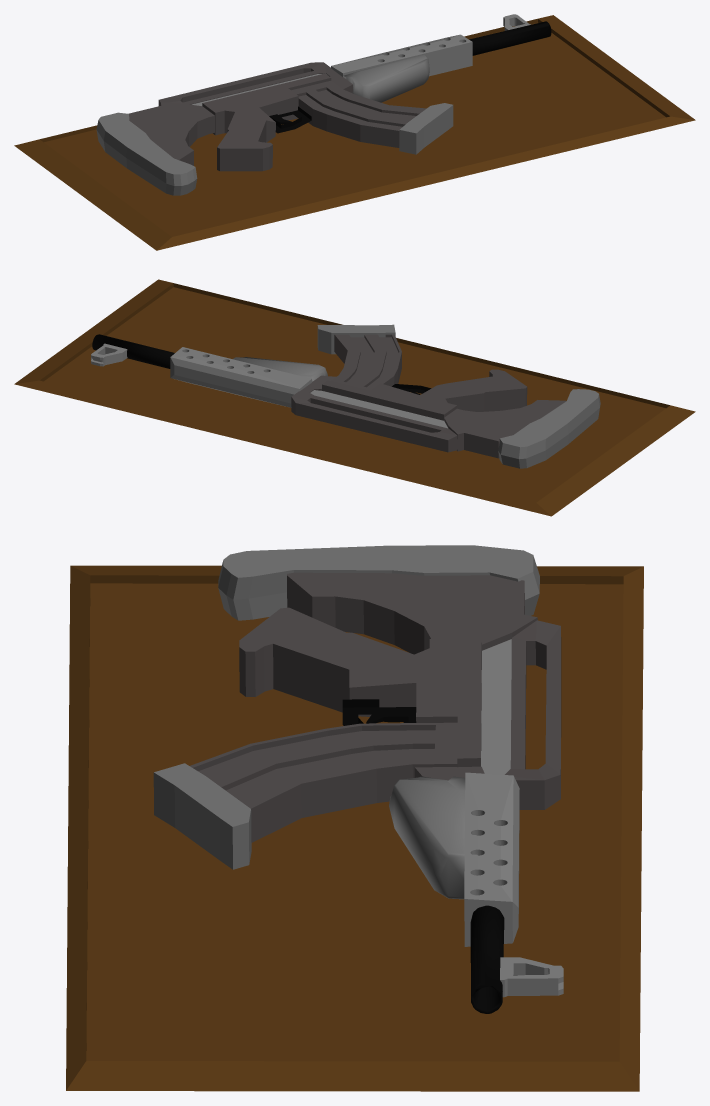
The model's file is MissionLeaderPiece.glb.
3 renders of one model, top to bottom at view 1: azimuth 30°, elevation 25°; view 2: azimuth 150°, elevation 25°; view 3: azimuth 270°, elevation 25°, orthographic. The views are drawn at different scales.
Parts seen in each view (by area): view 1: Plane, Cube.001_Cube.002, Cube.003_Cube.004, Cube.013_Cube.014, Cube.005_Cube.006, Cube.004_Cube.005, Cube.010_Cube.011, Cube_Cube.001, Cube.014_Cube.015, Cylinder.001, Cube.002_Cube.003; view 2: Plane, Cube.001_Cube.002, Cube.004_Cube.005, Cube_Cube.001, Cube.013_Cube.014, Cube.005_Cube.006, Cube.003_Cube.004, Cube.014_Cube.015, Cylinder.001, Cube.007_Cube.008, Cube.010_Cube.011, Cube.016_Cube.017; view 3: Plane, Cube.001_Cube.002, Cube.003_Cube.004, Cube.005_Cube.006, Cube.013_Cube.014, Cube.004_Cube.005, Cube_Cube.001, Cube.010_Cube.011, Cube.014_Cube.015, Cube.007_Cube.008, Cylinder.001, Cube.016_Cube.017 (+1 smaller).
Part boxes in pixels (left/top/right/bottom): Plane: left=14, top=15, right=695, bottom=250; Cube.001_Cube.002: left=202, top=73, right=331, bottom=171; Cube.003_Cube.004: left=291, top=80, right=426, bottom=147; Cube.013_Cube.014: left=96, top=112, right=197, bottom=195; Cube.005_Cube.006: left=129, top=102, right=214, bottom=165; Cube.004_Cube.005: left=331, top=34, right=472, bottom=78; Cube.010_Cube.011: left=343, top=55, right=429, bottom=102; Cube_Cube.001: left=158, top=62, right=352, bottom=105; Cube.014_Cube.015: left=399, top=103, right=453, bottom=154; Cylinder.001: left=469, top=21, right=551, bottom=55; Cube.002_Cube.003: left=269, top=106, right=311, bottom=133; Plane: left=14, top=279, right=695, bottom=516; Cube.001_Cube.002: left=322, top=369, right=527, bottom=420; Cube.004_Cube.005: left=170, top=347, right=311, bottom=407; Cube_Cube.001: left=291, top=375, right=457, bottom=452; Cube.013_Cube.014: left=498, top=389, right=600, bottom=468; Cube.005_Cube.006: left=444, top=400, right=566, bottom=458; Cube.003_Cube.004: left=331, top=334, right=401, bottom=390; Cube.014_Cube.015: left=317, top=324, right=395, bottom=354; Cylinder.001: left=92, top=334, right=174, bottom=368; Cube.007_Cube.008: left=310, top=390, right=447, bottom=428; Cube.010_Cube.011: left=232, top=357, right=327, bottom=381; Cube.016_Cube.017: left=91, top=343, right=127, bottom=366; Plane: left=66, top=565, right=643, bottom=1091; Cube.001_Cube.002: left=239, top=607, right=481, bottom=767; Cube.003_Cube.004: left=190, top=722, right=457, bottom=842; Cube.005_Cube.006: left=287, top=572, right=537, bottom=654; Cube.013_Cube.014: left=218, top=545, right=539, bottom=620; Cube.004_Cube.005: left=464, top=772, right=519, bottom=946; Cube_Cube.001: left=414, top=620, right=561, bottom=809; Cube.010_Cube.011: left=389, top=776, right=477, bottom=899; Cube.014_Cube.015: left=153, top=763, right=251, bottom=869; Cube.007_Cube.008: left=481, top=639, right=511, bottom=774; Cylinder.001: left=470, top=905, right=504, bottom=1013; Cube.016_Cube.017: left=500, top=957, right=563, bottom=997.
Bounding box in the file's own units: 5.57 × 0.3557 × 2.58.
